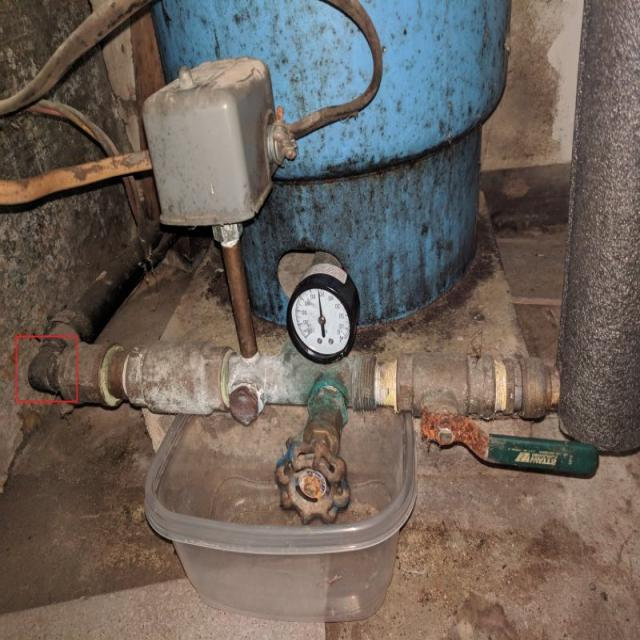Wheel Handle Valve Threaded: (273, 351, 373, 523)
